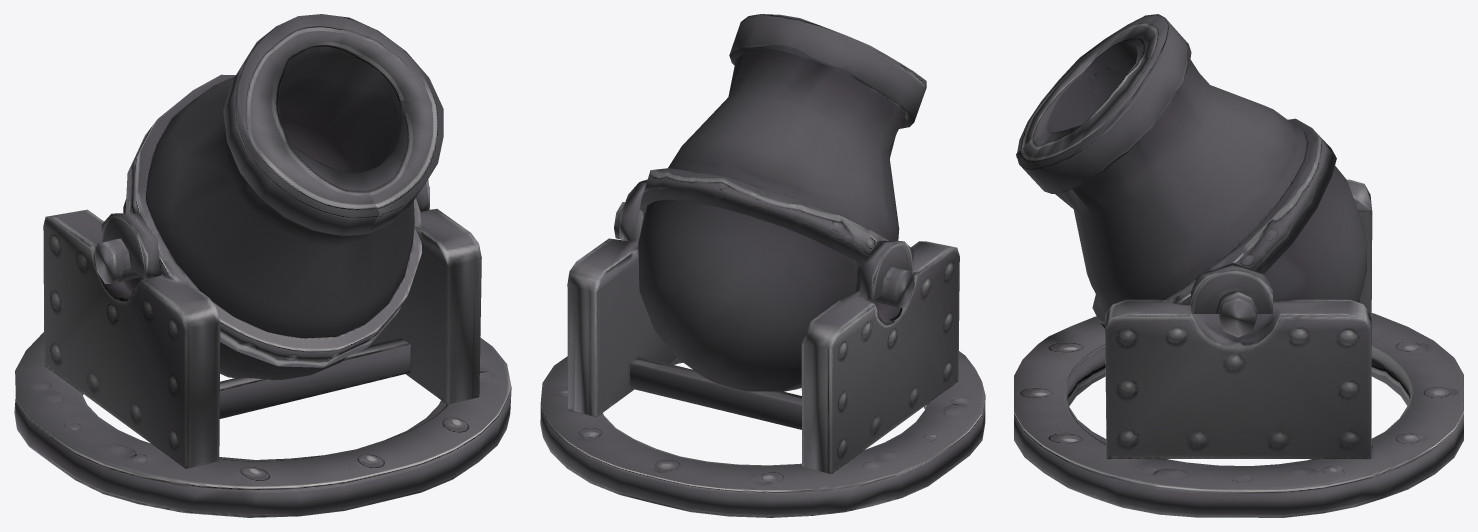
Rendered from meshy-b-1000.glb.
3 renders of one model, left to right at view 1: azimuth 30°, elevation 25°; view 2: azimuth 150°, elevation 25°; view 3: azimuth 270°, elevation 25°, orthographic. The views are drawn at different scales.
Bounding box in the file's own units: 1 × 0.9751 × 1.
Materials: 1 (1 with a texture image).
